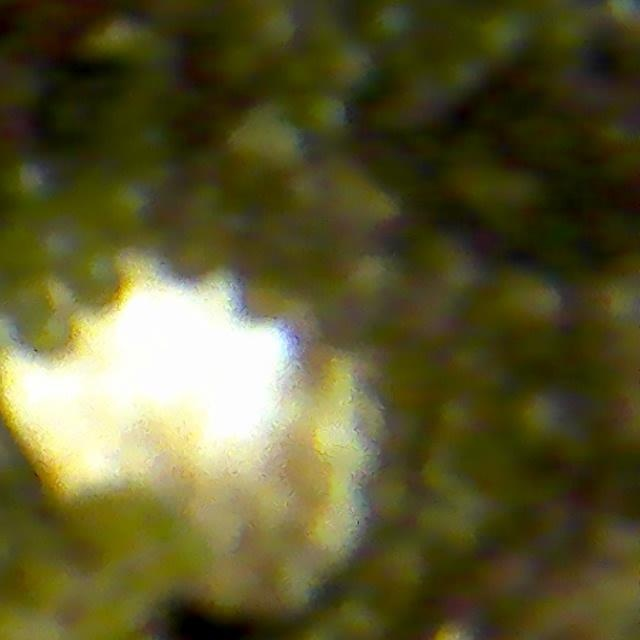SeaGrape: (497, 273, 562, 333), (67, 248, 124, 310), (302, 92, 350, 140)
